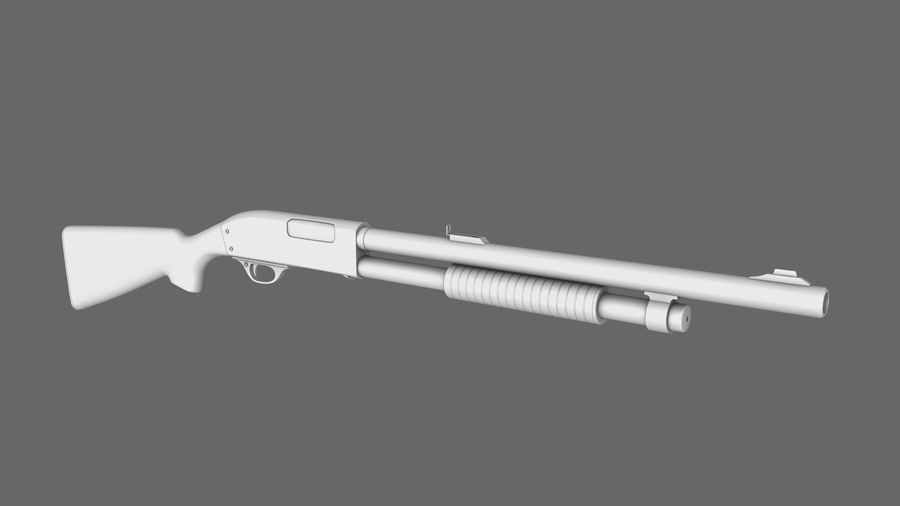weapon: (59, 210, 831, 337)
